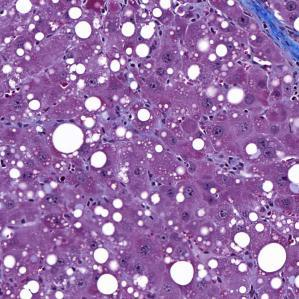fibrosis: (234, 0, 298, 69)
